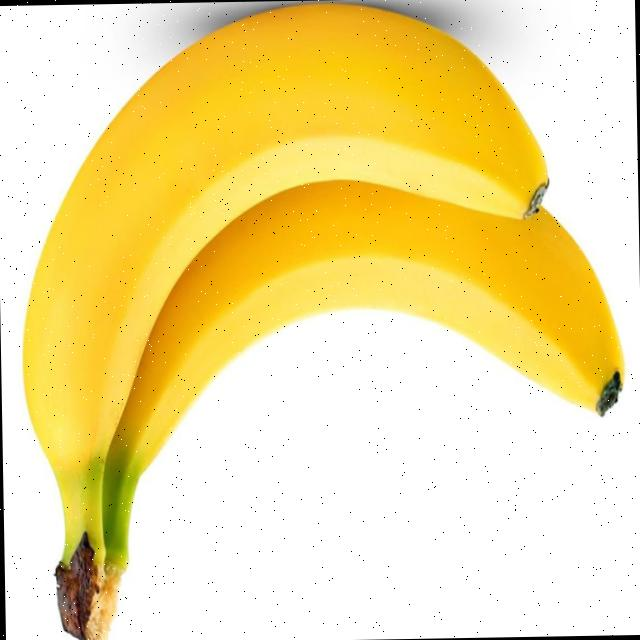Pisang: (14, 0, 629, 640)
